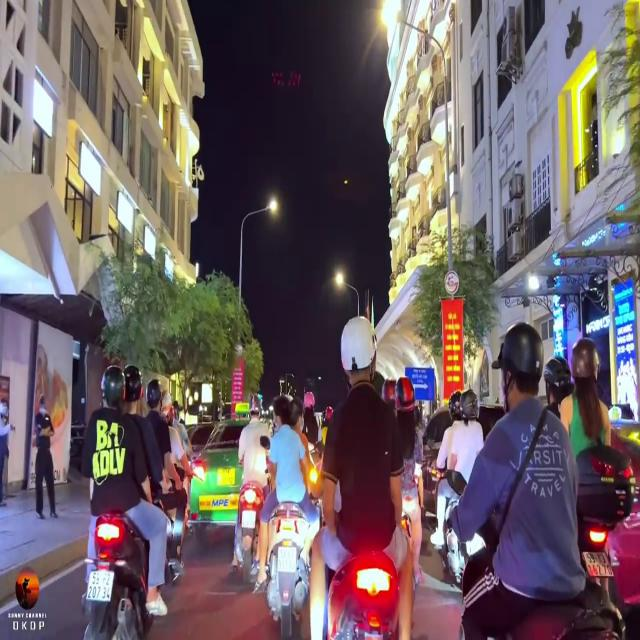bien_trang: (85, 567, 118, 603)
bien_vang: (215, 466, 238, 491)
